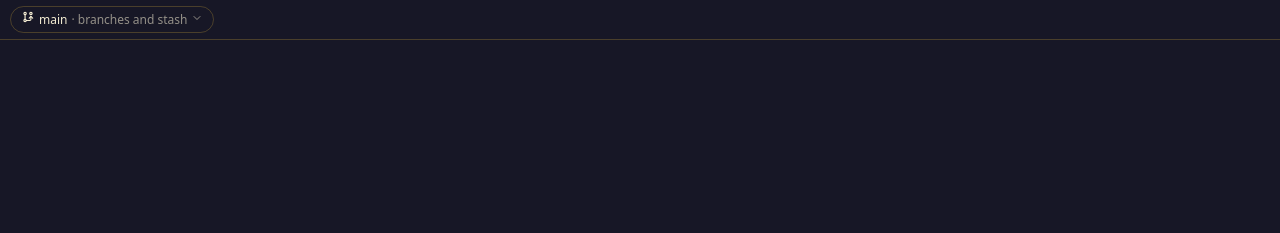
BranchBar › shows other errors in plain view and keeps the list usable
Click the button "main · branches and stash" at x=112, y=20, box [10,6,214,33]
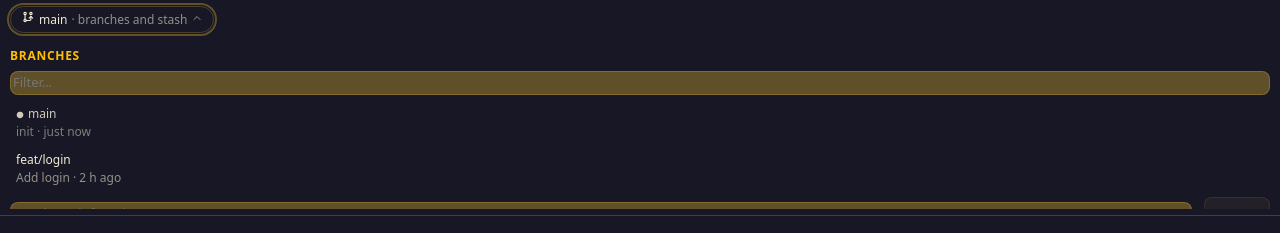
Check: the text "Add login · 2 h ago" is shown, box [16,168,121,186]
Click the button "feat/login Add login · 2 h ago" at x=43, y=159, box [10,146,1270,190]
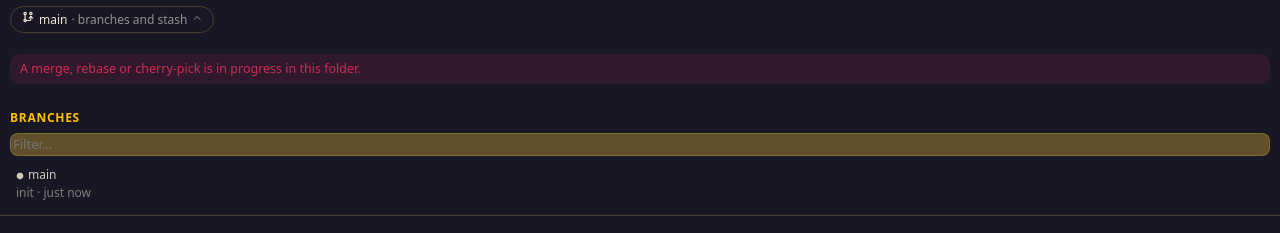
Check: the message shows "in progress", box [20,60,361,76]
